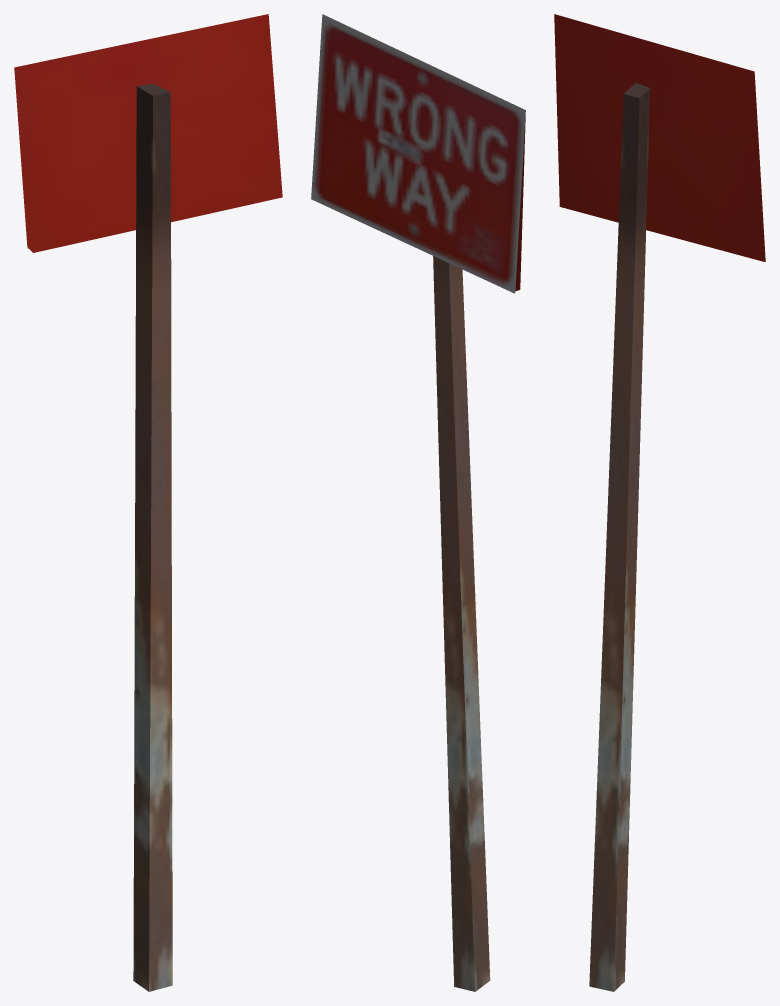
File: sign2.fbx
The picture shows the model from 3 angles, left to right: view 1: azimuth 30°, elevation 25°; view 2: azimuth 150°, elevation 25°; view 3: azimuth 330°, elevation 25°; orthographic projection. The views are drawn at different scales.
Parts seen in each view (by area): view 1: sign02; view 2: sign02; view 3: sign02.
Part boxes in pixels (x1,y1,x2,y2): sign02: (14, 14, 282, 991); sign02: (311, 14, 525, 991); sign02: (554, 14, 765, 991).
Size of the model in its own units: 57.04 by 211 by 20.62.
1 material, 1 textured.
